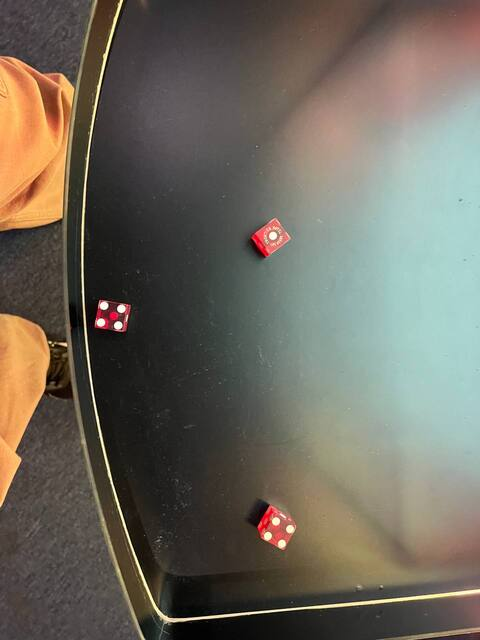four: (89, 298, 130, 338), (257, 514, 298, 554)
one: (250, 215, 294, 259)
